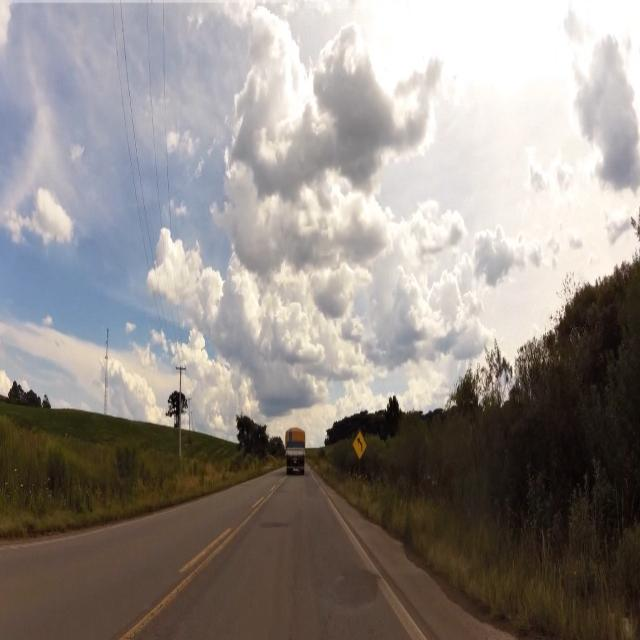A-2a: (352, 429, 368, 461)
